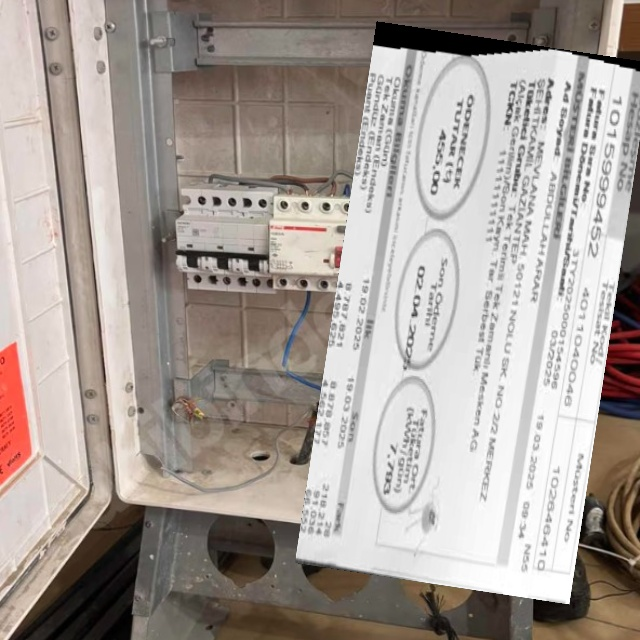electricity-bill: (295, 20, 640, 604)
